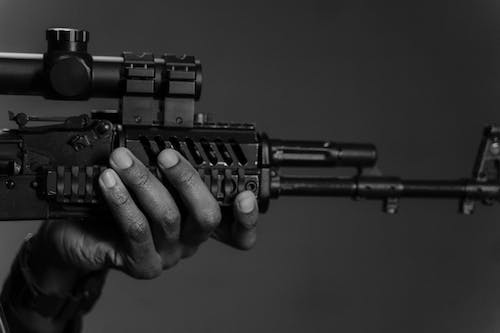gun: (0, 24, 500, 225)
